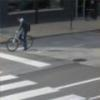bicycles: (6, 30, 34, 52)
